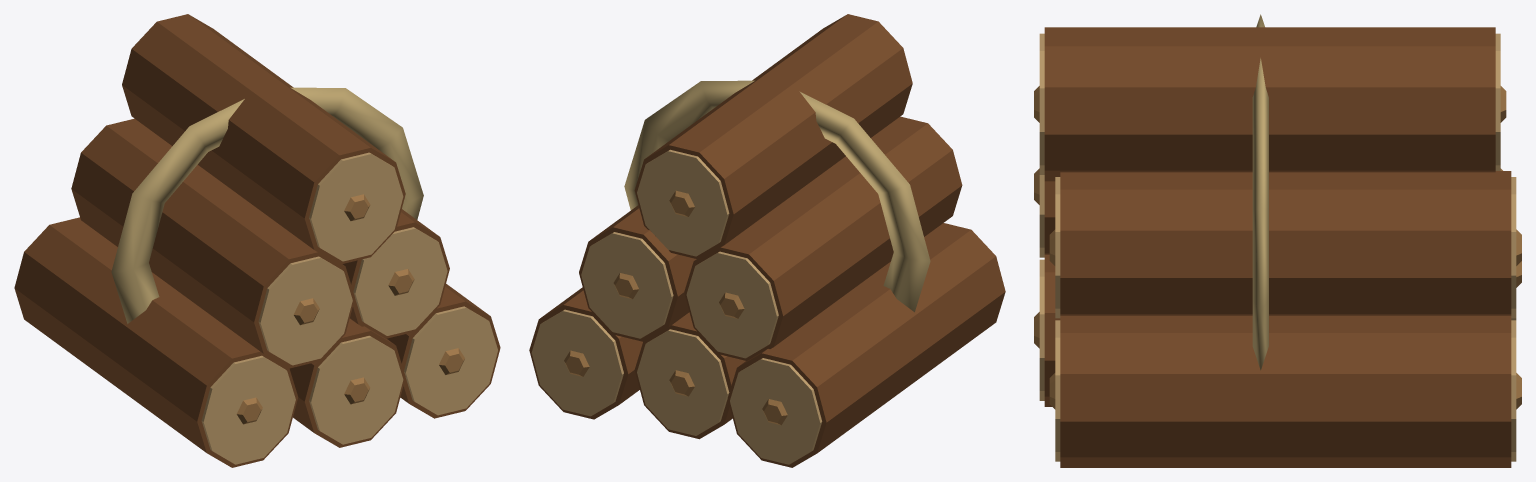
Rendered from pile-wood-6.gltf.
3 renders of one model, left to right at view 1: azimuth 30°, elevation 25°; view 2: azimuth 150°, elevation 25°; view 3: azimuth 270°, elevation 25°, orthographic. The views are drawn at different scales.
Parts seen in each view (by area): view 1: pile-wood-6; view 2: pile-wood-6; view 3: pile-wood-6.
Part boxes in pixels (x1,y1,x2,y2): pile-wood-6: (14, 14, 500, 467); pile-wood-6: (529, 14, 1005, 467); pile-wood-6: (1034, 14, 1521, 467).
Bounding box in the file's own units: 0.7107 × 0.6358 × 0.779.
